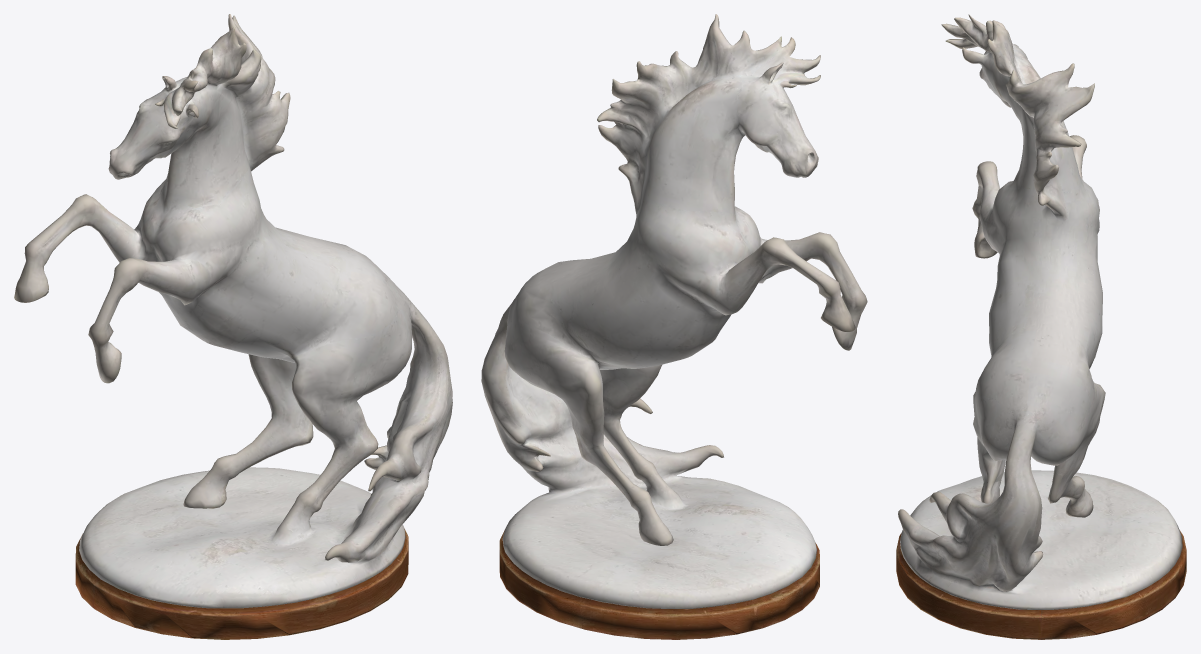
File: horse.glb
3 renders of one model, left to right at view 1: azimuth 30°, elevation 25°; view 2: azimuth 150°, elevation 25°; view 3: azimuth 270°, elevation 25°, orthographic. The views are drawn at different scales.
Visible parts, largest first — view 1: horse_statue_01; view 2: horse_statue_01; view 3: horse_statue_01.
Part boxes in pixels (x1=…): horse_statue_01: x1=14, y1=14, x2=452, y2=639; horse_statue_01: x1=481, y1=14, x2=867, y2=639; horse_statue_01: x1=896, y1=14, x2=1186, y2=639.
Bounding box in the file's own units: 0.1638 × 0.22 × 0.1078.
1 material, 1 textured.
